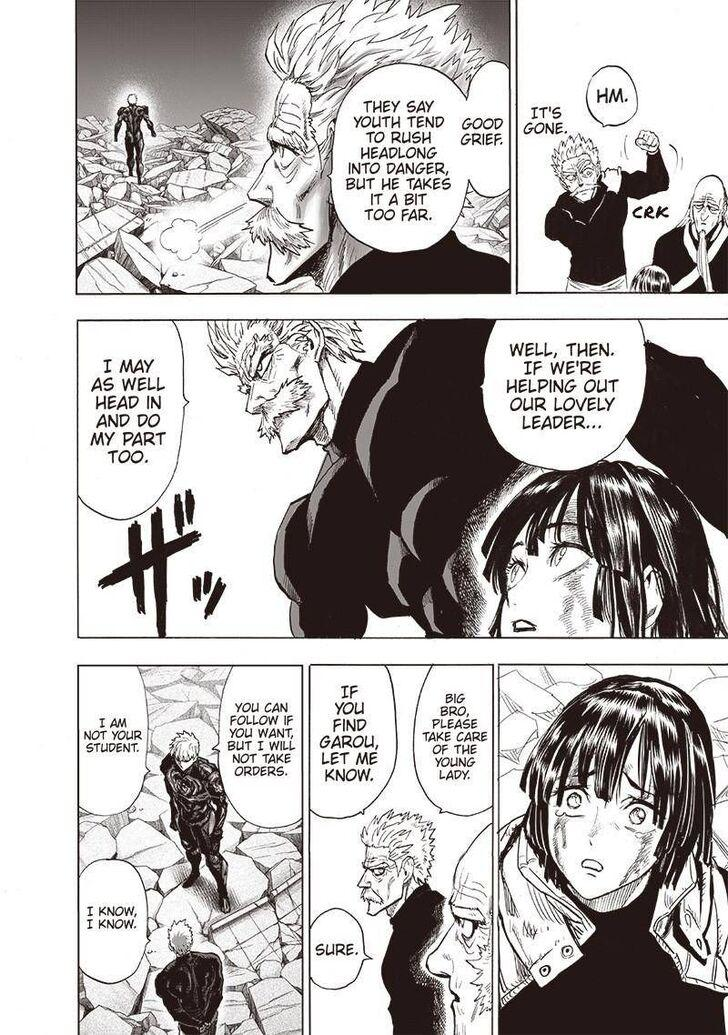Bubble: (481, 317, 649, 473), (329, 58, 456, 255), (76, 318, 187, 521), (308, 662, 399, 821), (217, 664, 304, 829), (412, 662, 497, 817), (77, 663, 150, 818), (77, 858, 150, 985), (461, 59, 513, 199), (309, 906, 367, 991), (583, 63, 641, 130)
